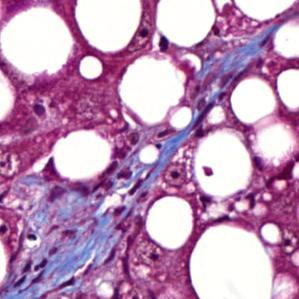steatosis: (50, 127, 110, 181), (140, 195, 195, 249), (230, 78, 279, 122), (78, 53, 104, 80)
